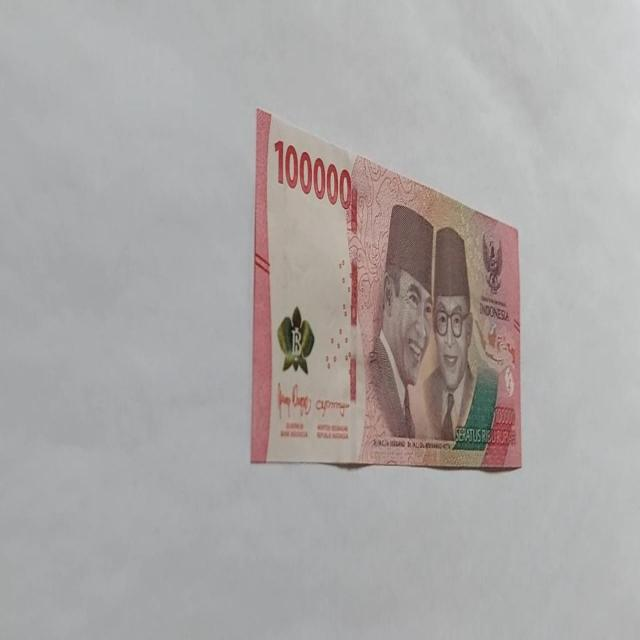Kertas: (250, 106, 522, 471), (273, 137, 353, 211)
